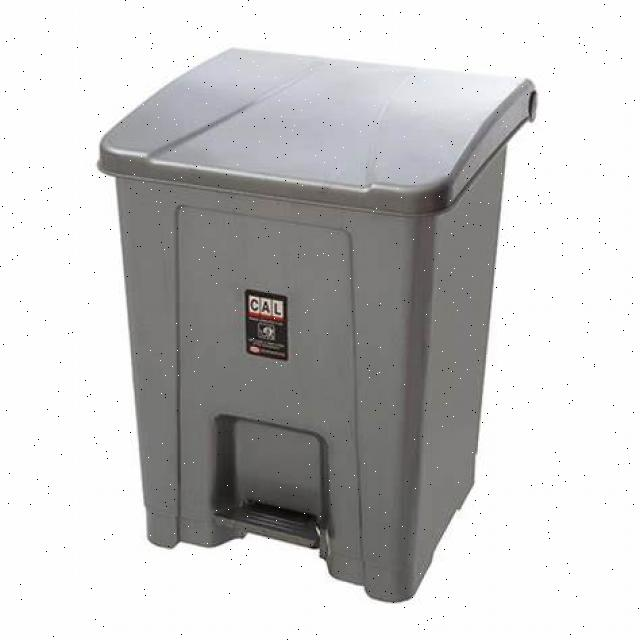garbage container: (89, 12, 576, 602)
